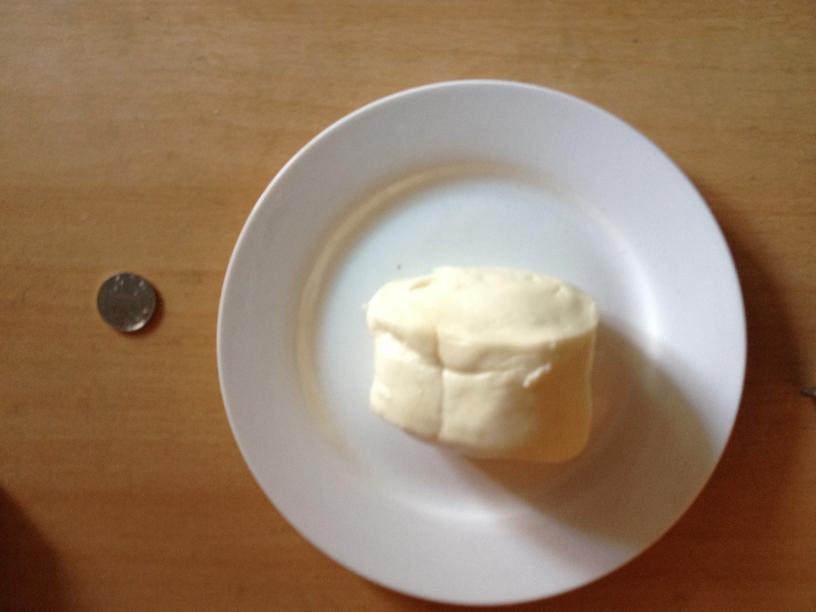bun: (366, 263, 596, 465)
coin: (95, 269, 159, 333)
